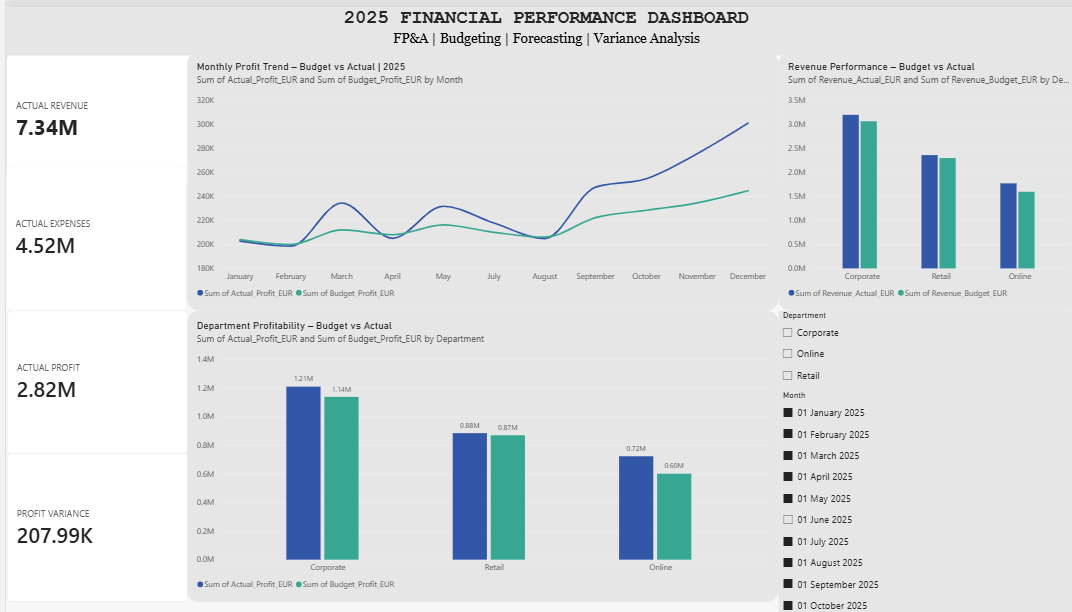

The page's visual inventory and layout, read from the dashboard file:
{"tool":"powerbi","page":{"name":"Page 1","canvas":[1920,1080],"ordinal":0},"visuals":[{"type":"cardVisual","title":"2025 FINANCIAL PERFORMANCE DASHBOARD","fields":{"Data":["Sum(fpa_detailed_analysis.Revenue_Actual_EUR)"]},"box":[0,0,1918.2,282],"z":0},{"type":"cardVisual","fields":{"Data":["Sum(fpa_detailed_analysis.Expense_Actual_EUR)"]},"box":[0,282,321.9,257.5],"z":1},{"type":"cardVisual","fields":{"Data":["Sum(fpa_detailed_analysis.Actual_Profit_EUR)"]},"box":[2.2,539.5,321.9,253.1],"z":2},{"type":"cardVisual","fields":{"Data":["Sum(fpa_detailed_analysis.Profit_Variance_EUR)"]},"box":[2.2,792.6,321.9,264.2],"z":3},{"type":"clusteredColumnChart","title":"Department Profitability – Budget vs Actual","fields":{"Category":["fpa_department_summary.Department"],"Y":["Sum(fpa_department_summary.Actual_Profit_EUR)","Sum(fpa_department_summary.Budget_Profit_EUR)"]},"box":[321.9,539.5,1050.1,517.3],"z":4},{"type":"lineChart","title":"Monthly Profit Trend – Budget vs Actual | 2025","fields":{"Category":["fpa_monthly_summary.Month.Variation.Date Hierarchy.Month"],"Y":["Sum(fpa_monthly_summary.Actual_Profit_EUR)","Sum(fpa_monthly_summary.Budget_Profit_EUR)"]},"box":[321.9,95.5,1050.1,444],"z":5},{"type":"clusteredColumnChart","title":"Revenue Performance – Budget vs Actual","fields":{"Category":["fpa_department_summary.Department"],"Y":["Sum(fpa_department_summary.Revenue_Actual_EUR)","Sum(fpa_department_summary.Revenue_Budget_EUR)"]},"box":[1372.1,95.5,537.3,444],"z":6},{"type":"slicer","fields":{"Values":["fpa_department_summary.Department"]},"box":[1372.1,539.5,537.3,142.1],"z":7},{"type":"slicer","fields":{"Values":["fpa_monthly_summary.Month"]},"box":[1372.1,681.6,537.3,397.4],"z":8}]}

Visuals, with their boxes in screenshot pixels (x1, y1, x2, y2), scaled from the page's 1920x1080 canvas onto the 1072x612 screenshot:
"2025 FINANCIAL PERFORMANCE DASHBOARD" cardVisual: [0, 0, 1071, 160]
cardVisual - Sum(fpa_detailed_analysis.Expense_Actual_EUR): [0, 160, 180, 306]
cardVisual - Sum(fpa_detailed_analysis.Actual_Profit_EUR): [1, 306, 181, 449]
cardVisual - Sum(fpa_detailed_analysis.Profit_Variance_EUR): [1, 449, 181, 599]
"Department Profitability – Budget vs Actual" clusteredColumnChart: [180, 306, 766, 599]
"Monthly Profit Trend – Budget vs Actual | 2025" lineChart: [180, 54, 766, 306]
"Revenue Performance – Budget vs Actual" clusteredColumnChart: [766, 54, 1066, 306]
slicer - fpa_department_summary.Department: [766, 306, 1066, 386]
slicer - fpa_monthly_summary.Month: [766, 386, 1066, 611]
